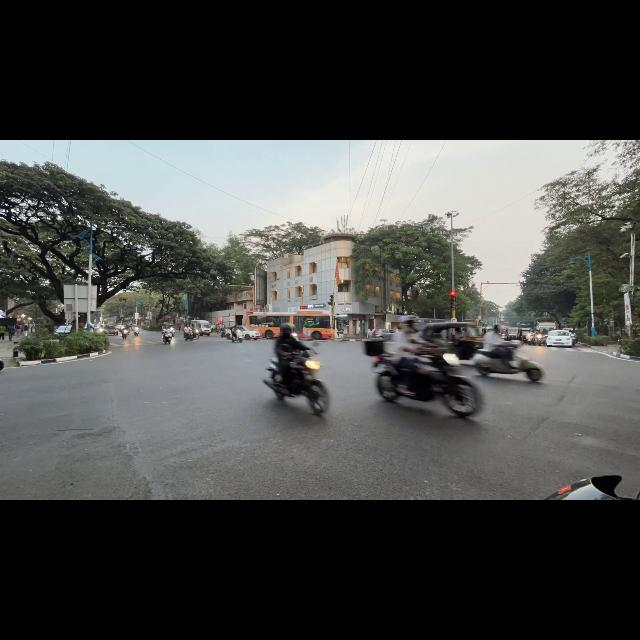bus: (246, 310, 332, 339)
car: (546, 330, 573, 347), (236, 326, 260, 339), (373, 329, 395, 339), (54, 325, 71, 337), (101, 325, 118, 335)
motorcycle: (366, 341, 481, 417), (264, 351, 328, 414), (472, 341, 542, 381), (545, 475, 633, 499), (532, 334, 545, 345), (523, 333, 535, 344), (231, 330, 242, 342), (163, 331, 172, 343), (184, 332, 193, 341), (193, 329, 200, 339), (122, 329, 128, 339), (220, 329, 226, 337), (133, 327, 139, 335), (0, 359, 4, 370)
